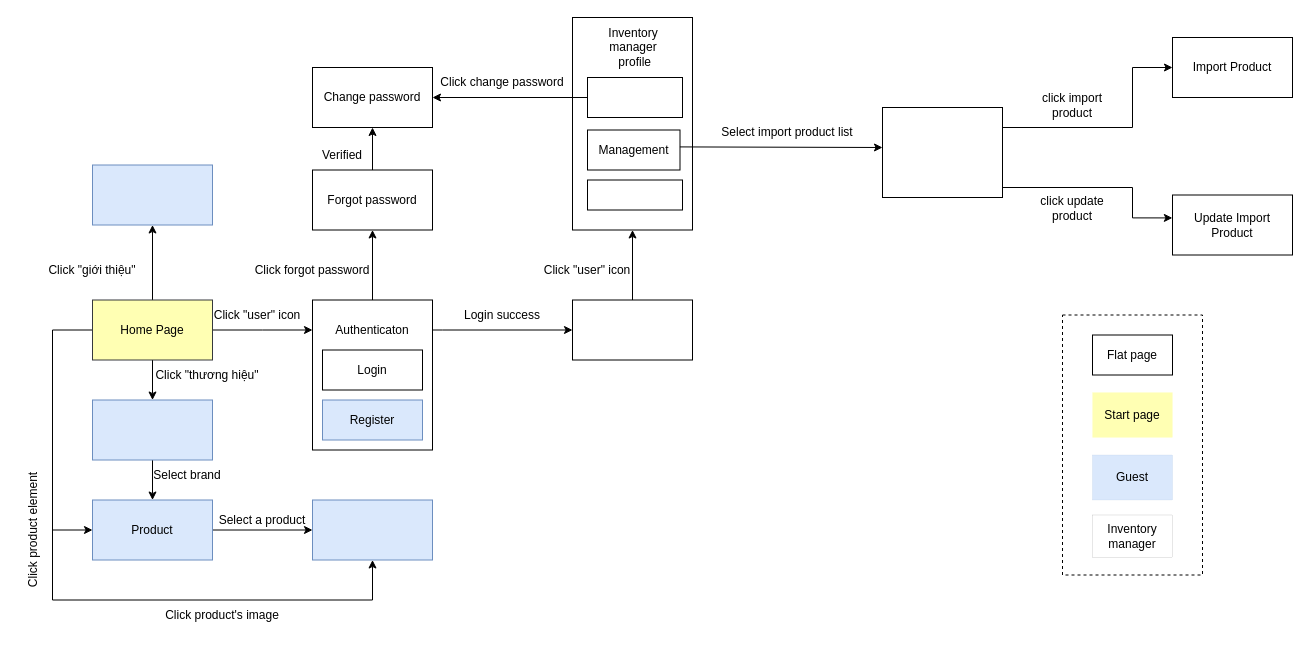
Some shapes in this 1310 by 647 pixel diagram are drawn without their labels. The centre of each missing label's shape, as x and y in pixels:
"Account" belongs at (x=634, y=97).
"Brand" belongs at (x=152, y=429).
"Import Product List" belongs at (x=942, y=152).
"Introduce" belongs at (x=152, y=194).
"Logout" belongs at (x=634, y=194).
"Post Login" belongs at (x=632, y=329).
"Product Detail" belongs at (x=372, y=529).
